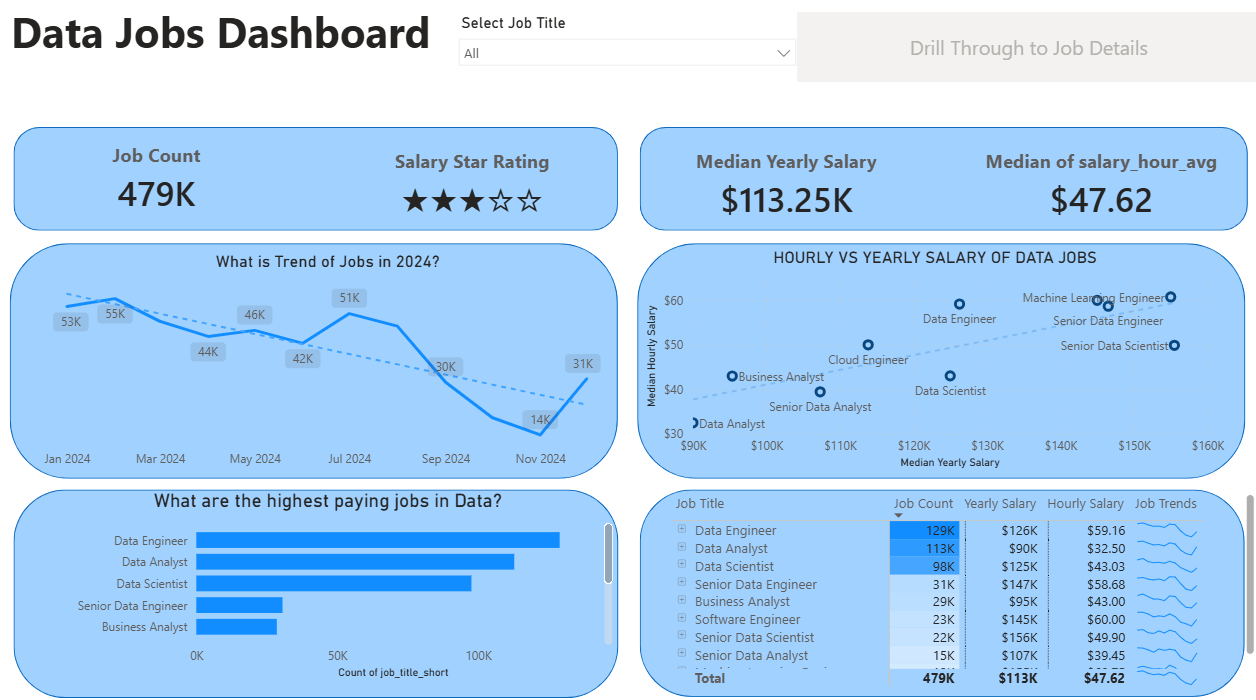

The page's visual inventory and layout, read from the dashboard file:
{"tool":"powerbi","page":{"name":"Dashboard","canvas":[1280,720],"ordinal":0},"visuals":[{"type":"group","id":"g1","title":"Baxkground","box":[14.3,131.4,1253.6,578.6],"z":0},{"type":"textbox","box":[10,0,630,71.4],"z":1000},{"type":"slicer","fields":{"Values":["job_postings_flat.job_title_short"]},"box":[448.9,3.3,362.2,76.7],"z":2000},{"type":"cardVisual","fields":{"Data":["Median(job_postings_flat.salary_year_avg)"]},"box":[640,131.4,320,117.1],"z":3000},{"type":"cardVisual","fields":{"Data":["Median(job_postings_flat.salary_hour_avg)"]},"box":[960,131.4,320,117.1],"z":4000},{"type":"cardVisual","fields":{"Data":["job_postings_flat.Salary Star Rating"]},"box":[325.7,131.4,314.3,117.1],"z":5000},{"type":"cardVisual","fields":{"Data":["CountNonNull(job_postings_flat.job_title_short)"]},"box":[0,124.7,325.8,117.9],"z":6000},{"type":"lineChart","title":"What is Trend of Jobs in 2024?","fields":{"Category":["job_postings_flat.job_posted_date.Variation.Date Hierarchy.Year","job_postings_flat.job_posted_date.Variation.Date Hierarchy.Quarter","job_postings_flat.job_posted_date.Variation.Date Hierarchy.Month","job_postings_flat.job_posted_date.Variation.Date Hierarchy.Day"],"Y":["CountNonNull(job_postings_flat.job_title_short)"]},"box":[43.6,257.3,586.4,229.1],"z":7000},{"type":"barChart","title":"What are the highest paying jobs in Data?","fields":{"Category":["job_postings_flat.job_title_short"],"Y":["CountNonNull(job_postings_flat.job_title_short)"]},"box":[43.6,499.1,586.4,196.4],"z":8000},{"type":"pivotTable","fields":{"Rows":["job_postings_flat.job_title_short","job_postings_flat.job_posted_date.Variation.Date Hierarchy.Quarter"],"Values":["CountNonNull(job_postings_flat.job_title_short)","Median(job_postings_flat.salary_year_avg)","Median(job_postings_flat.salary_hour_avg)","SparklineData(CountNonNull(job_postings_flat.job_title_short)_[job_postings_flat.job_posted_date.Variation.Date Hierarch"]},"box":[679.1,498.2,600.9,204.5],"z":9000},{"type":"shape","box":[17.9,131.4,612.1,105],"z":10000,"group":"g1"},{"type":"scatterChart","title":"HOURLY VS YEARLY SALARY OF DATA JOBS","fields":{"Y":["Median(job_postings_flat.salary_hour_avg)"],"X":["Median(job_postings_flat.salary_year_avg)"],"Series":["job_postings_flat.job_title_short"]},"box":[653.1,253.8,595.9,228.9],"z":10000},{"type":"actionButton","title":"Drill Through to Job Title","box":[811.1,0,469,70.9],"z":11000},{"type":"shape","box":[652.2,131.4,615.7,105],"z":11000,"group":"g1"},{"type":"shape","box":[14.3,248.5,615.7,238.6],"z":12000,"group":"g1"},{"type":"shape","box":[649.3,248.5,615.7,238.6],"z":14000,"group":"g1"},{"type":"shape","box":[17.5,498.7,612.5,211.2],"z":15000,"group":"g1"},{"type":"shape","box":[652.5,498.7,612.5,210],"z":16000,"group":"g1"}]}

Visuals, with their boxes in screenshot pixels (x1, y1, x2, y2), scaled from the page's 1280x720 canvas onto the 1256x700 screenshot:
"Baxkground" group: box=[14, 128, 1244, 690]
textbox: box=[10, 0, 628, 69]
slicer - job_postings_flat.job_title_short: box=[440, 3, 796, 78]
cardVisual - Median(job_postings_flat.salary_year_avg): box=[628, 128, 942, 242]
cardVisual - Median(job_postings_flat.salary_hour_avg): box=[942, 128, 1255, 242]
cardVisual - job_postings_flat.Salary Star Rating: box=[320, 128, 628, 242]
cardVisual - CountNonNull(job_postings_flat.job_title_short): box=[0, 121, 320, 236]
"What is Trend of Jobs in 2024?" lineChart: box=[43, 250, 618, 473]
"What are the highest paying jobs in Data?" barChart: box=[43, 485, 618, 676]
pivotTable - job_postings_flat.job_title_short x job_postings_flat.job_posted_date.Variation.Date Hierarchy.Quarter: box=[666, 484, 1255, 683]
shape: box=[18, 128, 618, 230]
"HOURLY VS YEARLY SALARY OF DATA JOBS" scatterChart: box=[641, 247, 1226, 469]
"Drill Through to Job Title" actionButton: box=[796, 0, 1255, 69]
shape: box=[640, 128, 1244, 230]
shape: box=[14, 242, 618, 474]
shape: box=[637, 242, 1241, 474]
shape: box=[17, 485, 618, 690]
shape: box=[640, 485, 1241, 689]
